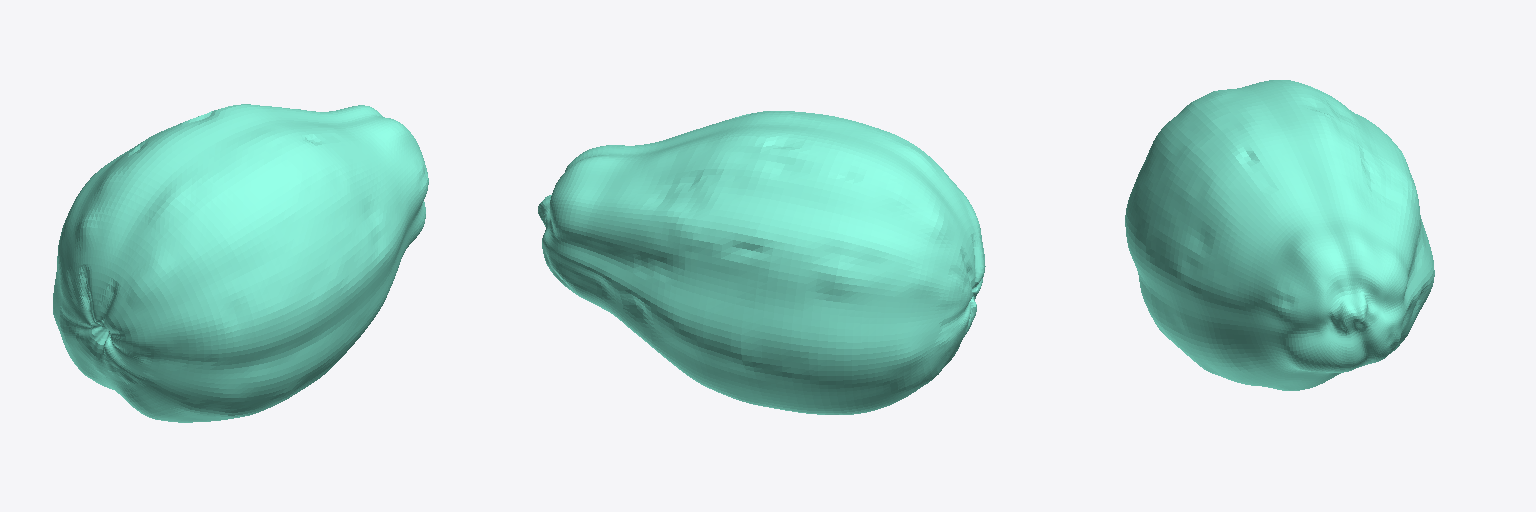
3 views of the same model, side by side, from view 1: azimuth 30°, elevation 25°; view 2: azimuth 150°, elevation 25°; view 3: azimuth 270°, elevation 25° (orthographic).
Visible parts, largest first — view 1: AM130_012_005; view 2: AM130_012_005; view 3: AM130_012_005.
Boxes of the visible parts, <box> form: AM130_012_005: <box>53,104,428,422</box>; AM130_012_005: <box>538,111,985,414</box>; AM130_012_005: <box>1125,80,1434,390</box>.
Size of the model in its own units: 42.2 by 28.89 by 29.78.